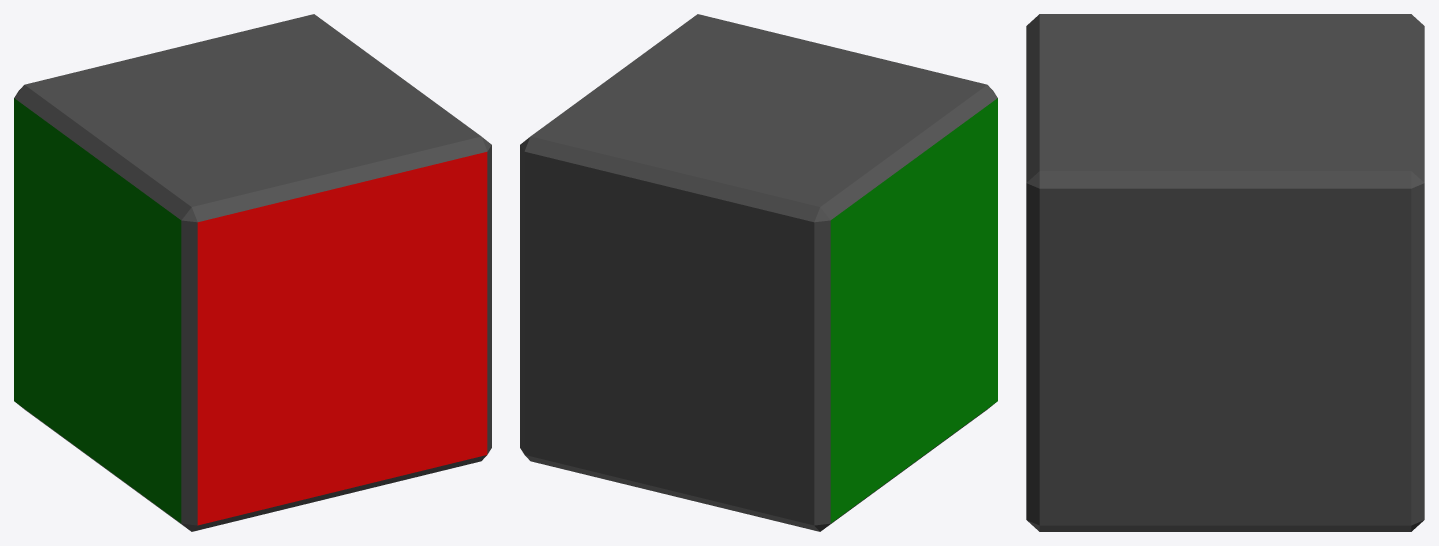
Rendered from gry.obj.
3 views of the same model, side by side, from view 1: azimuth 30°, elevation 25°; view 2: azimuth 150°, elevation 25°; view 3: azimuth 270°, elevation 25° (orthographic). The views are drawn at different scales.
Visible parts, largest first — view 1: Cube_Cube.001; view 2: Cube_Cube.001; view 3: Cube_Cube.001.
Part boxes in pixels (box(x1,y1,x2,y2)): Cube_Cube.001: box(14, 14, 491, 531); Cube_Cube.001: box(520, 14, 997, 531); Cube_Cube.001: box(1026, 14, 1424, 531).
Bounding box in the file's own units: 20 × 20 × 20.
